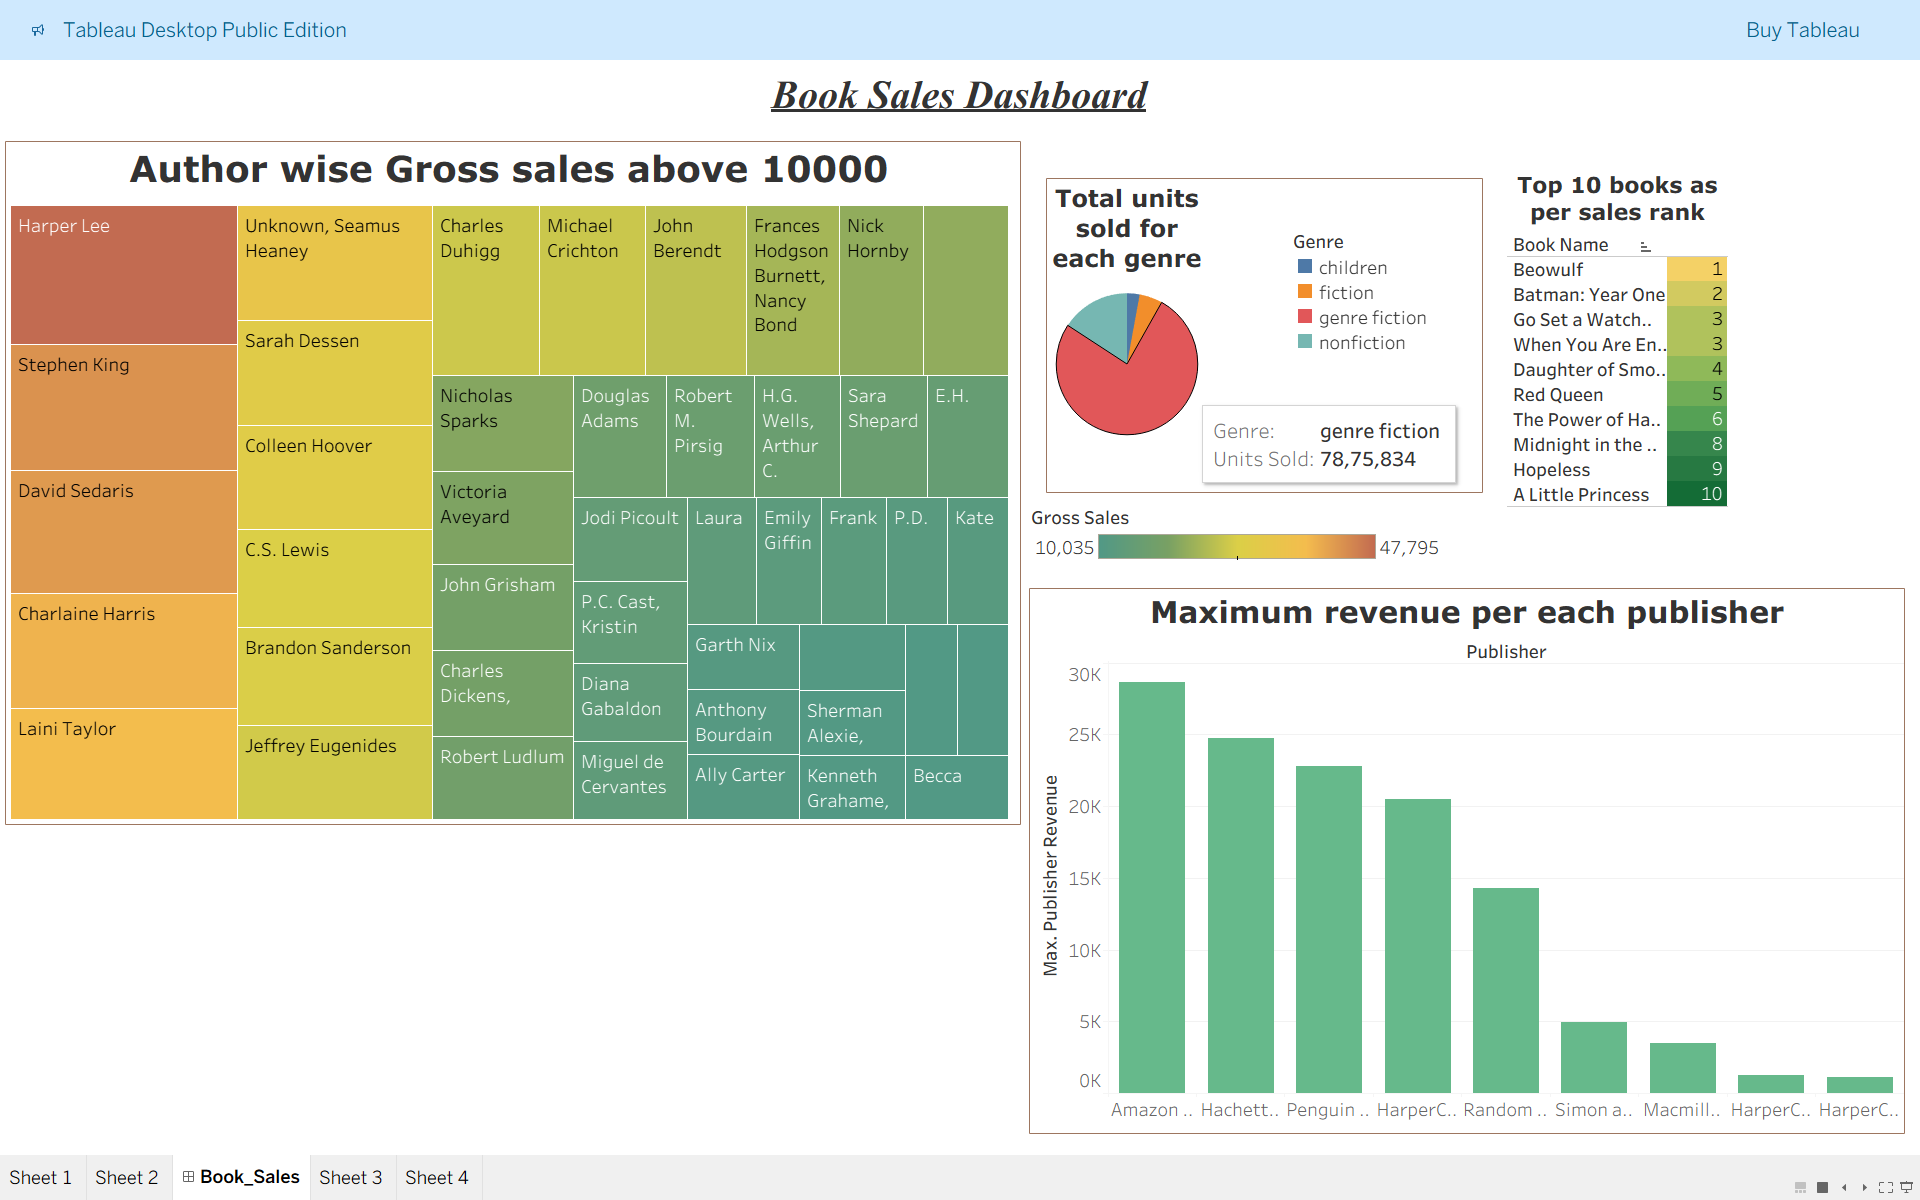

What the dashboard file says about the page in this screenshot:
{"tool":"tableau","page":{"name":"Book_Sales","canvas":[1000,1000],"units":"permille","ordinal":0},"visuals":[{"type":"title","box":[5,8.5,990,56.5]},{"type":"worksheet","title":"Sheet 1","mark":"Automatic","box":[2.5,73.6,529.3,624.7]},{"type":"worksheet","title":"Sheet 4","mark":"Square","rows":["Book Name"],"box":[784.9,98.1,203.9,381.7]},{"type":"worksheet","title":"Sheet 2","mark":"Pie","box":[544.9,107.7,227.6,287.9]},{"type":"legend","title":"Sheet 2","param":"[federated.0h2dcaq1betzs615wat1315uy10x].[none:genre:nk]","box":[673.3,153.5,119.1,147.1]},{"type":"legend","title":"Sheet 1","param":"[federated.0h2dcaq1betzs615wat1315uy10x].[sum:gross sales:qk]","box":[536.8,405.1,215.1,70.4]},{"type":"worksheet","title":"Sheet 3","mark":"Automatic","rows":["publisher revenue"],"cols":["Publisher"],"box":[536.2,481.9,456.4,498.9]}]}

Visuals, with their boxes on the dashboard's canvas, which has no fixed pixel size, in thousandths of its width and height (x1, y1, x2, y2). These are canvas units, not pixel positions in the 1920x1200 screenshot, which may show the page scaled, cropped or inside an application window:
title: [left=5, top=8, right=995, bottom=65]
"Sheet 1" worksheet: [left=2, top=74, right=532, bottom=698]
"Sheet 4" worksheet (Square marks): [left=785, top=98, right=989, bottom=480]
"Sheet 2" worksheet (Pie marks): [left=545, top=108, right=772, bottom=396]
"Sheet 2" legend: [left=673, top=154, right=792, bottom=301]
"Sheet 1" legend: [left=537, top=405, right=752, bottom=476]
"Sheet 3" worksheet: [left=536, top=482, right=993, bottom=981]
